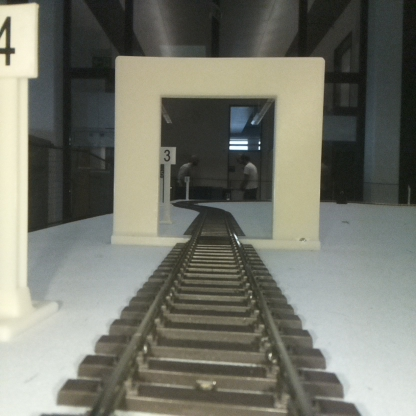white-info-3: (160, 146, 176, 223)
white-info-4: (0, 3, 38, 337)
